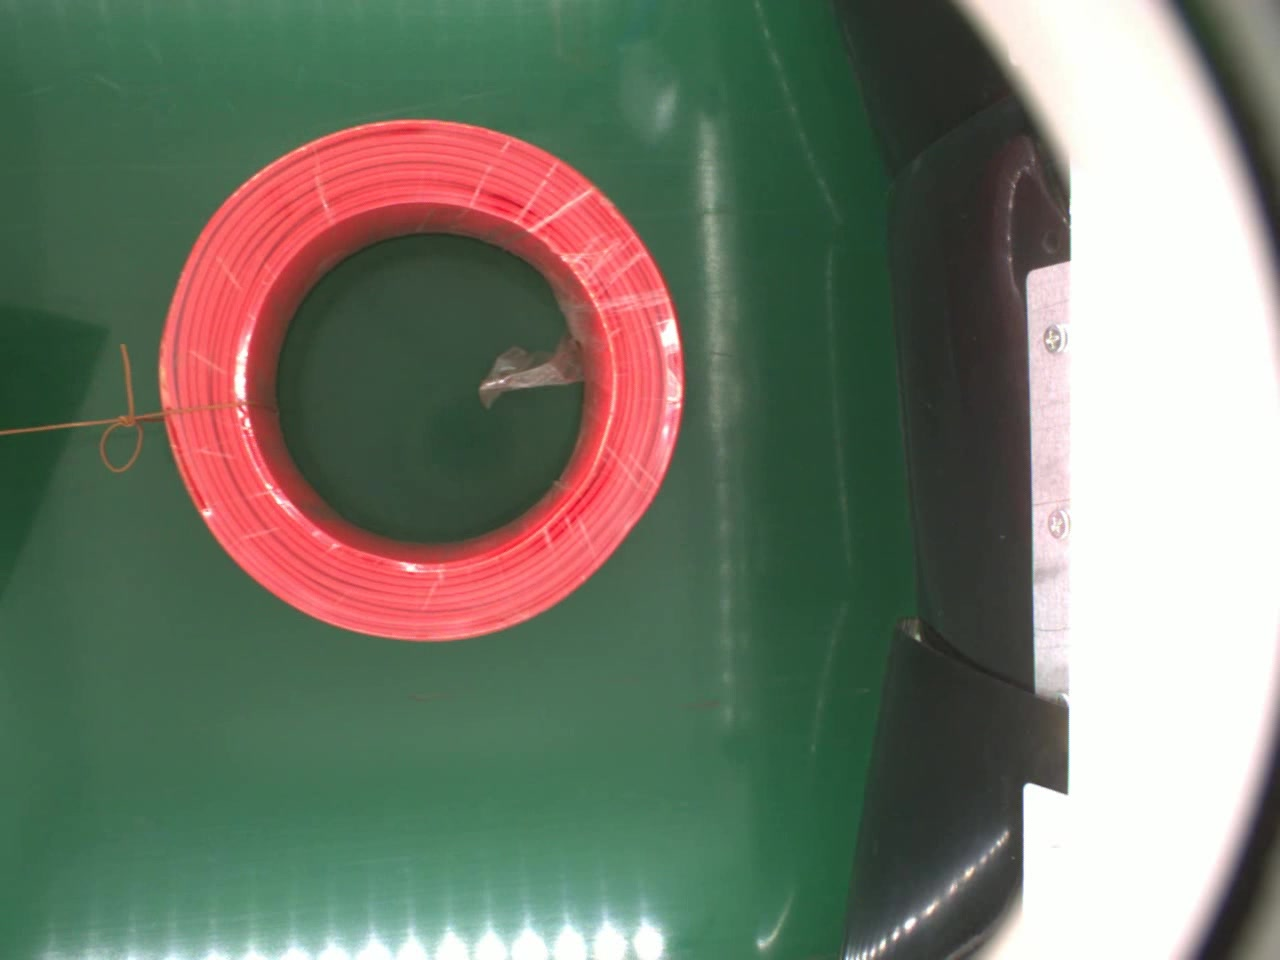red: (158, 115, 687, 644)
